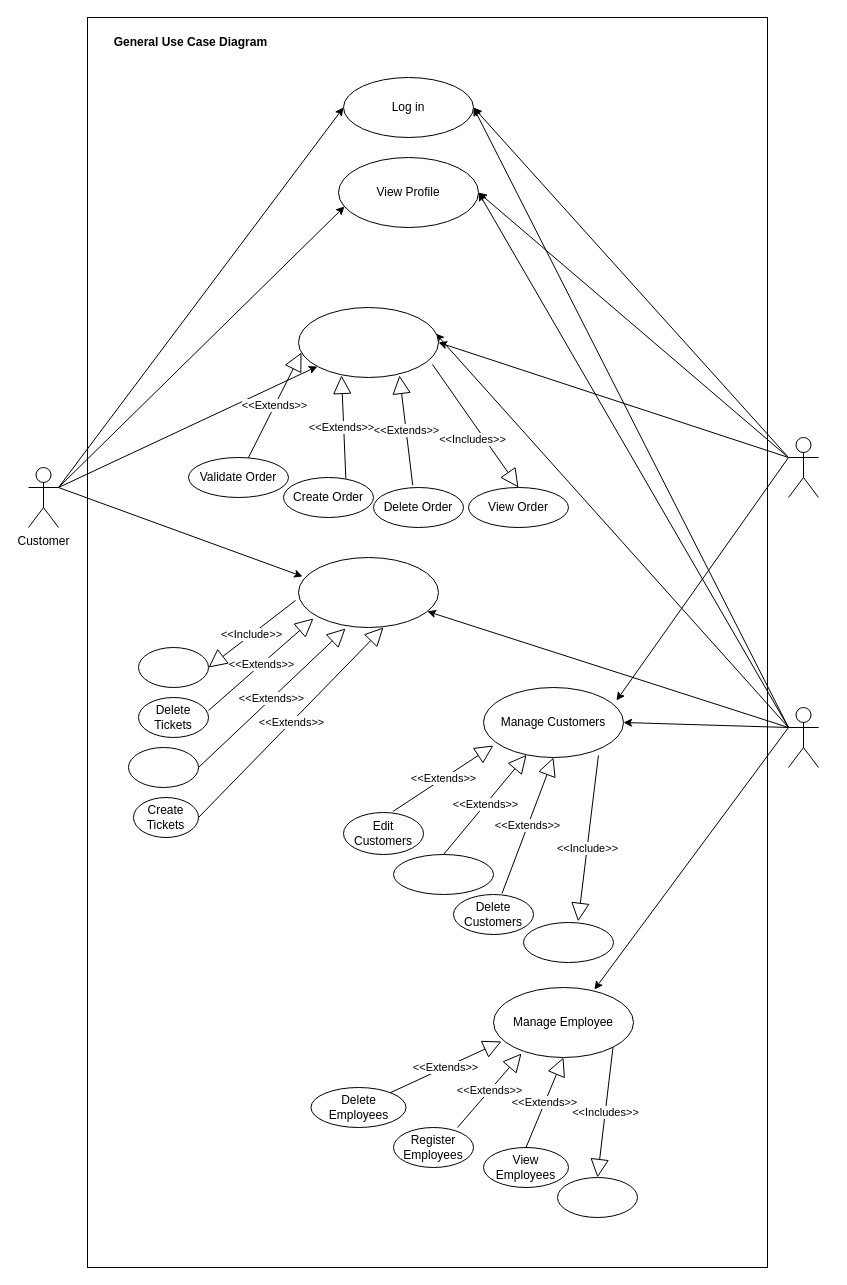
This 847x1285 diagram has some shape labels left out. The shapes that lost their labels are listed below. From the top down, each one's centre as x and y in pixels, then its label:
At point (368, 342): "Manage Orders".
At point (803, 467): "Employee".
At point (368, 592): "Manage Support Tickets".
At point (173, 667): "View Tickets".
At point (803, 737): "Admin".
At point (163, 767): "Reply Tickets".
At point (443, 874): "Register Customers".
At point (568, 942): "View Customers".
At point (597, 1197): "Edit Employees".
